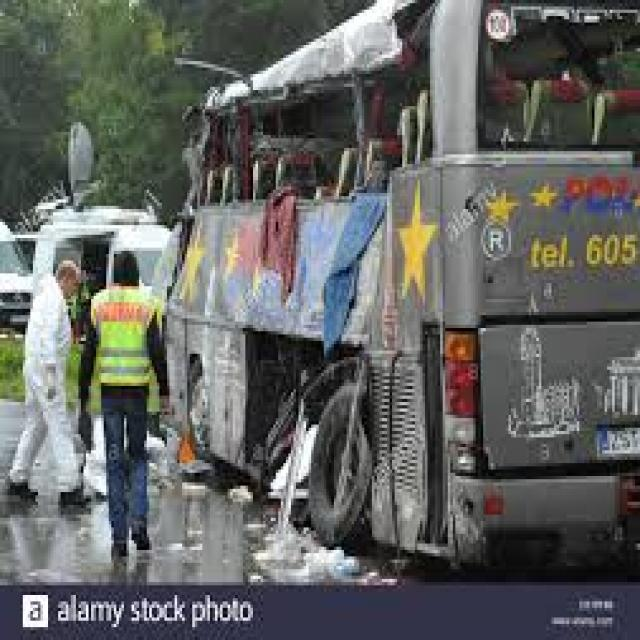accident: (152, 39, 640, 585)
